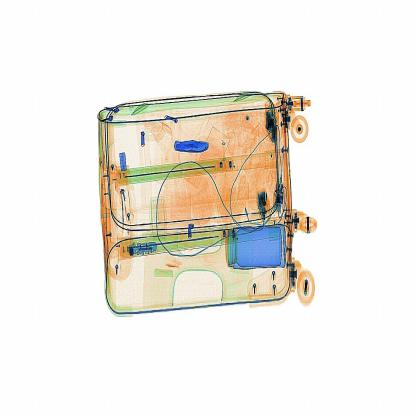knife: (171, 136, 212, 155)
